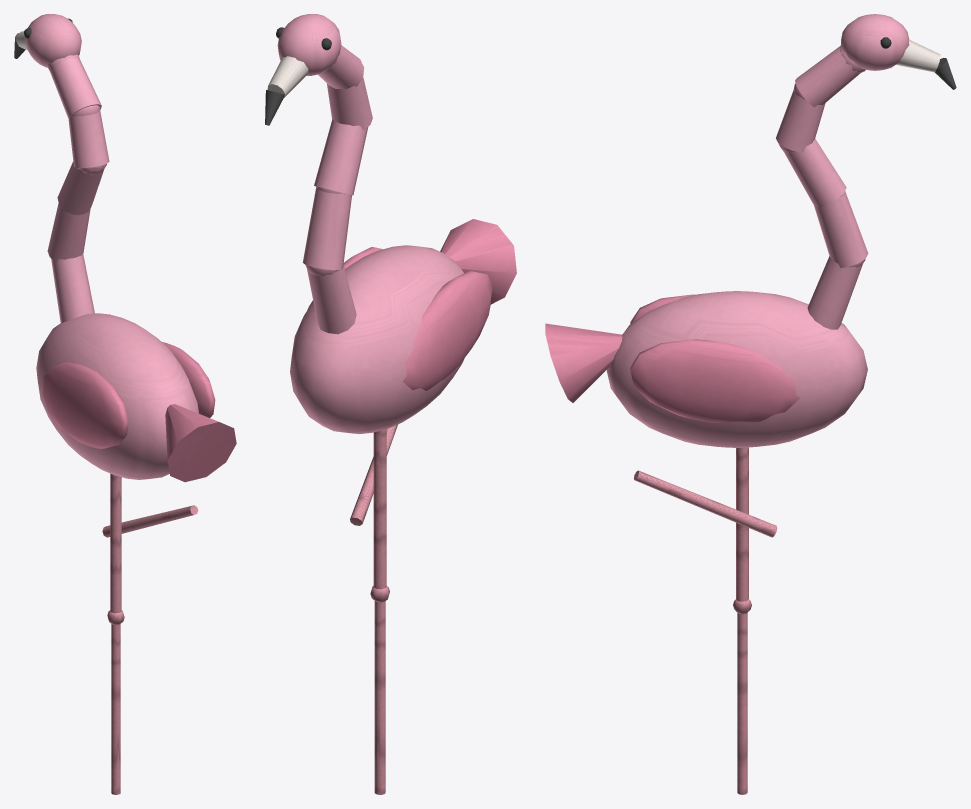
File: flamingo.glb
3 renders of one model, left to right at view 1: azimuth 30°, elevation 25°; view 2: azimuth 150°, elevation 25°; view 3: azimuth 270°, elevation 25°, orthographic. The views are drawn at different scales.
Parts seen in each view (by area): view 1: flamingo_body; view 2: flamingo_body; view 3: flamingo_body.
Boxes of the visible parts, left/top/right/bottom form: flamingo_body: left=14, top=14, right=236, bottom=794; flamingo_body: left=265, top=14, right=516, bottom=794; flamingo_body: left=545, top=14, right=956, bottom=794.
Bounding box in the file's own units: 0.272 × 1.61 × 0.7745.
6 materials, 5 textured.
